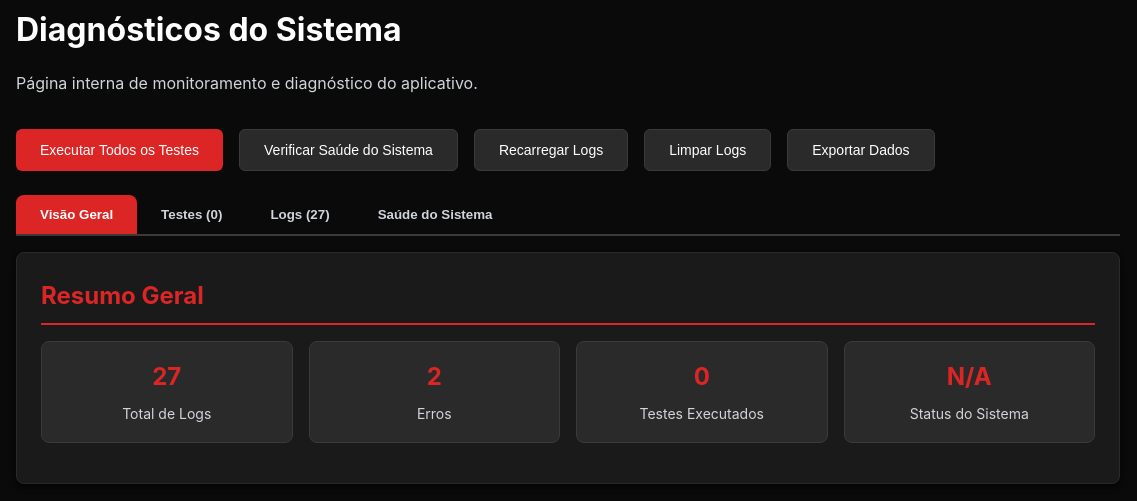
Scenario: Golf MK3 App - Testes de Integração › Página Diagnósticos › deve executar testes quando solicitado
Click the button "Executar Todos os Testes" at (120, 150), box [16,129,223,171]
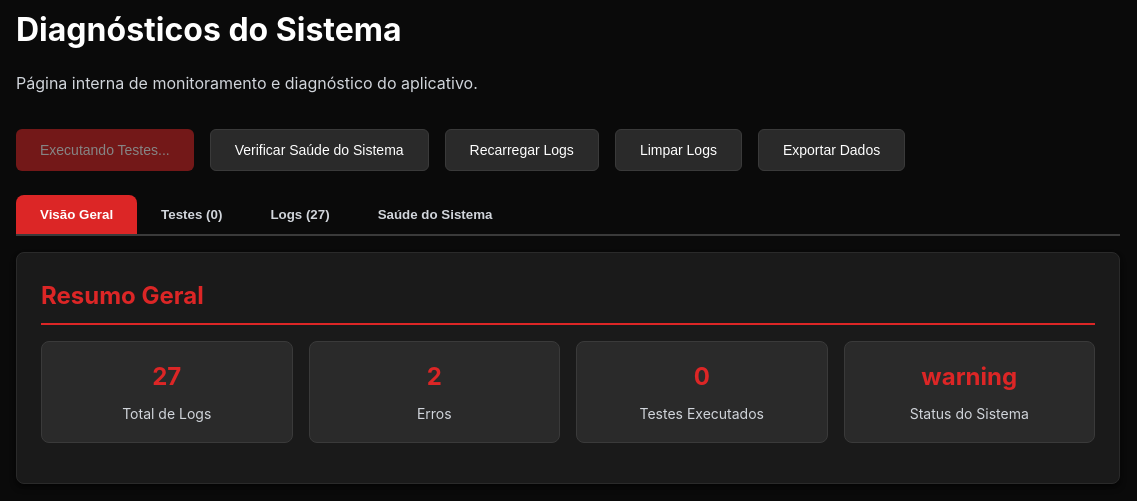
expect the button "Executando Testes..." is shown: met, box [16,129,194,171]
